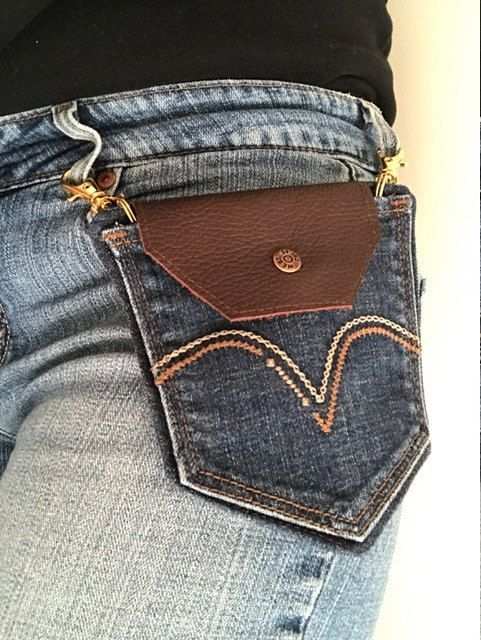cuero: (128, 180, 384, 321)
